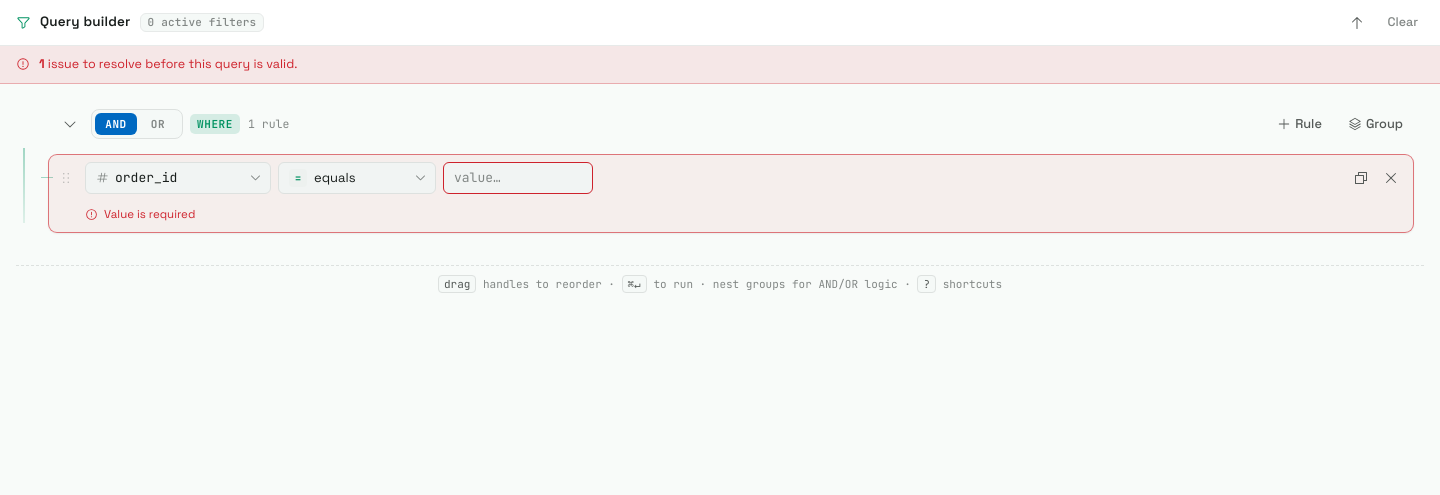
Test: Builder interactions › adds a nested group when the Group button is clicked
The width and height of the screenshot is (1440, 495).
Click the button "Group" at (1375, 124), box [1337, 110, 1414, 138]
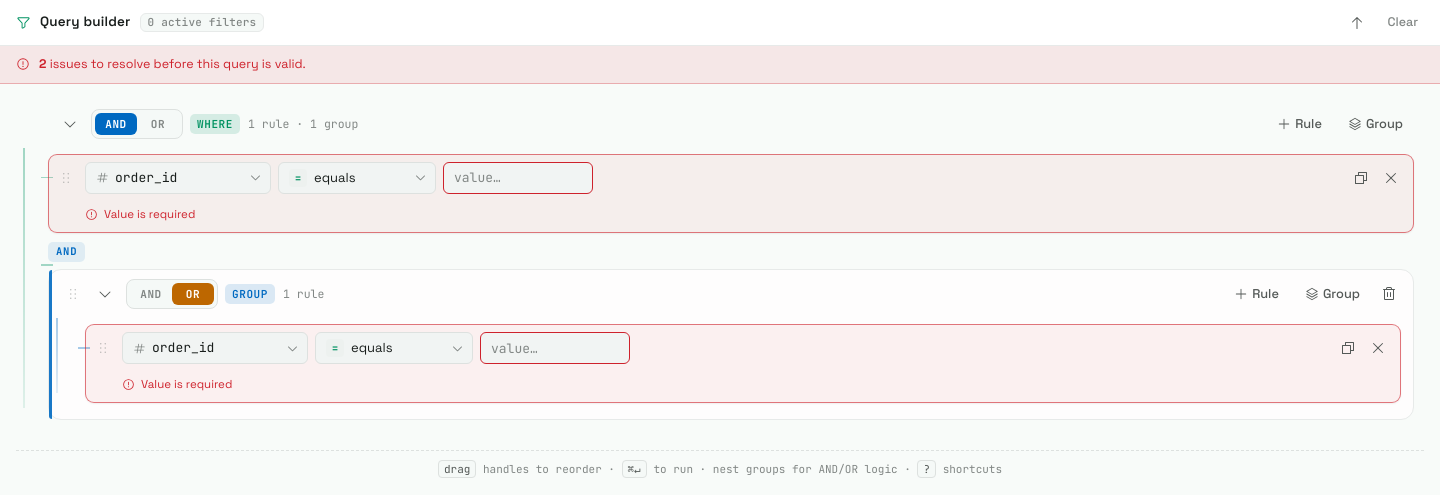
Result: the number of buttons named "Remove group" is 1 at [1375, 280, 1403, 308]
